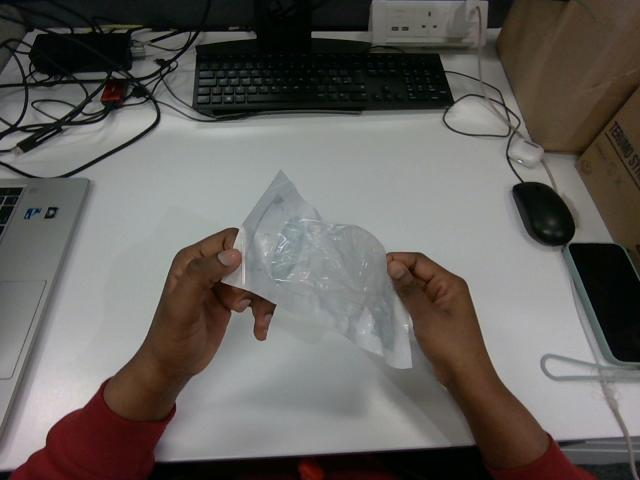gallipot: (223, 171, 411, 367)
